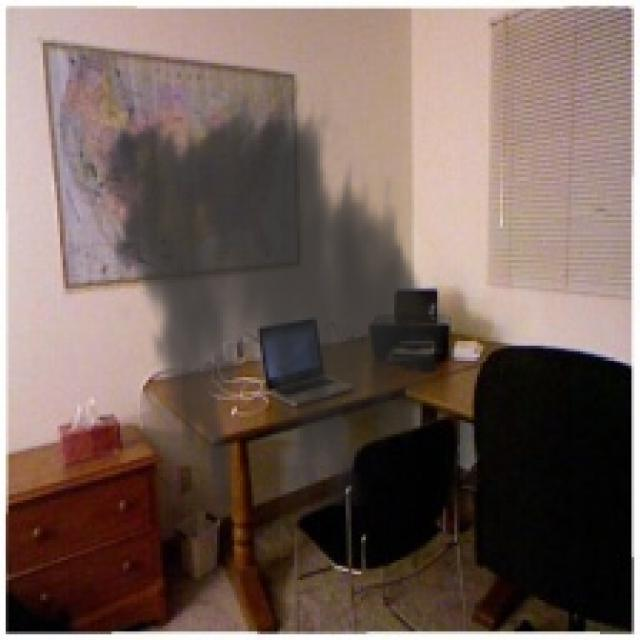smoke: (86, 86, 460, 506)
